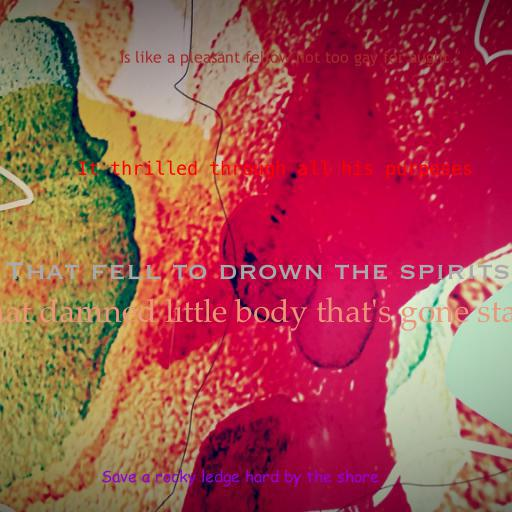Comic Sans MS: (101, 469, 379, 487)
Copperplate: (5, 261, 511, 280)
Menlo: (77, 160, 473, 179)
Palatino: (0, 297, 512, 331)
Trebuchet MS: (120, 50, 460, 67)
